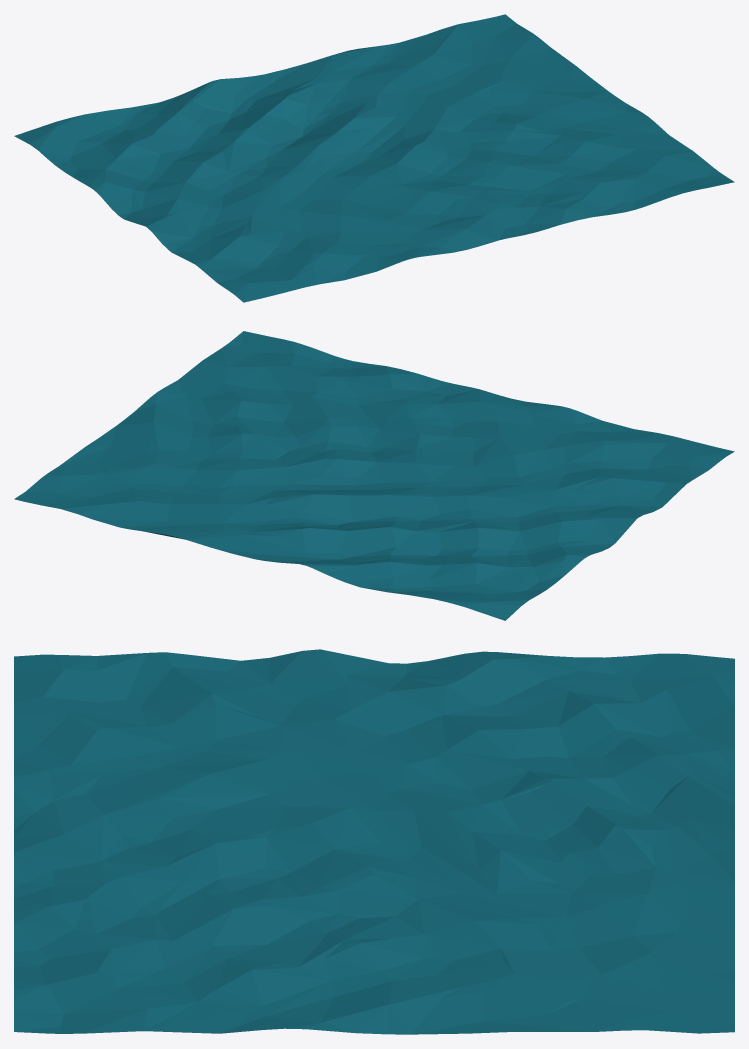
The model's file is Lake_texure_plane.fbx.
3 views of the same model, one above another, from view 1: azimuth 30°, elevation 25°; view 2: azimuth 150°, elevation 25°; view 3: azimuth 270°, elevation 25° (orthographic). The views are drawn at different scales.
Visible parts, largest first — view 1: pPlane1; view 2: pPlane1; view 3: pPlane1.
Part boxes in pixels (box(x1,y1,x2,y2)): pPlane1: box(14, 14, 734, 302); pPlane1: box(14, 331, 734, 620); pPlane1: box(14, 649, 734, 1034).
Bounding box in the file's own units: 346 × 8.8 × 280.
